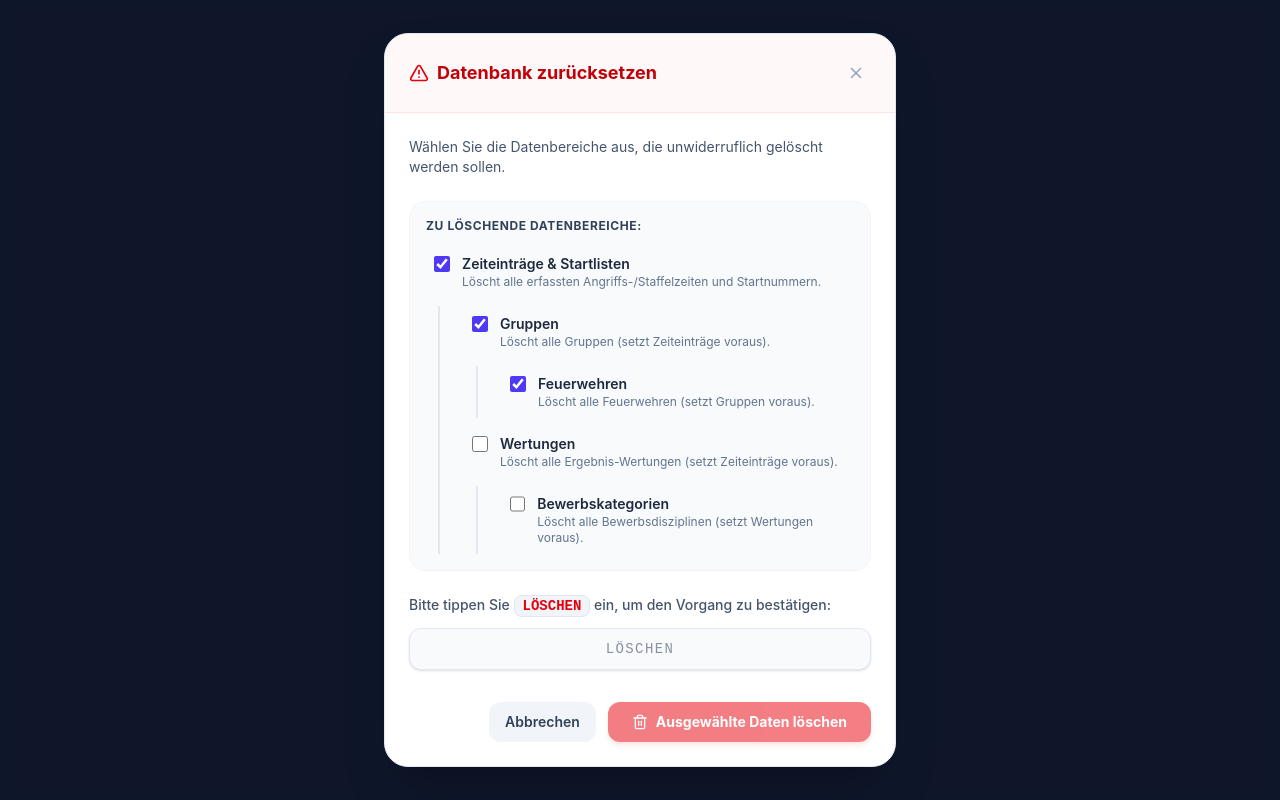
DatabaseResetModal › cascades unchecking parent (Zeiteinträge) to uncheck all dependent children
expect the checkbox named "scope-groups" is checked: met, box [472,316,488,332]
expect the checkbox named "scope-fire-brigades" is checked: met, box [510,376,526,392]
Note: Uncheck Zeiteinträge
Click the checkbox named "scope-category-entries" at (442, 264), box [434,256,450,272]
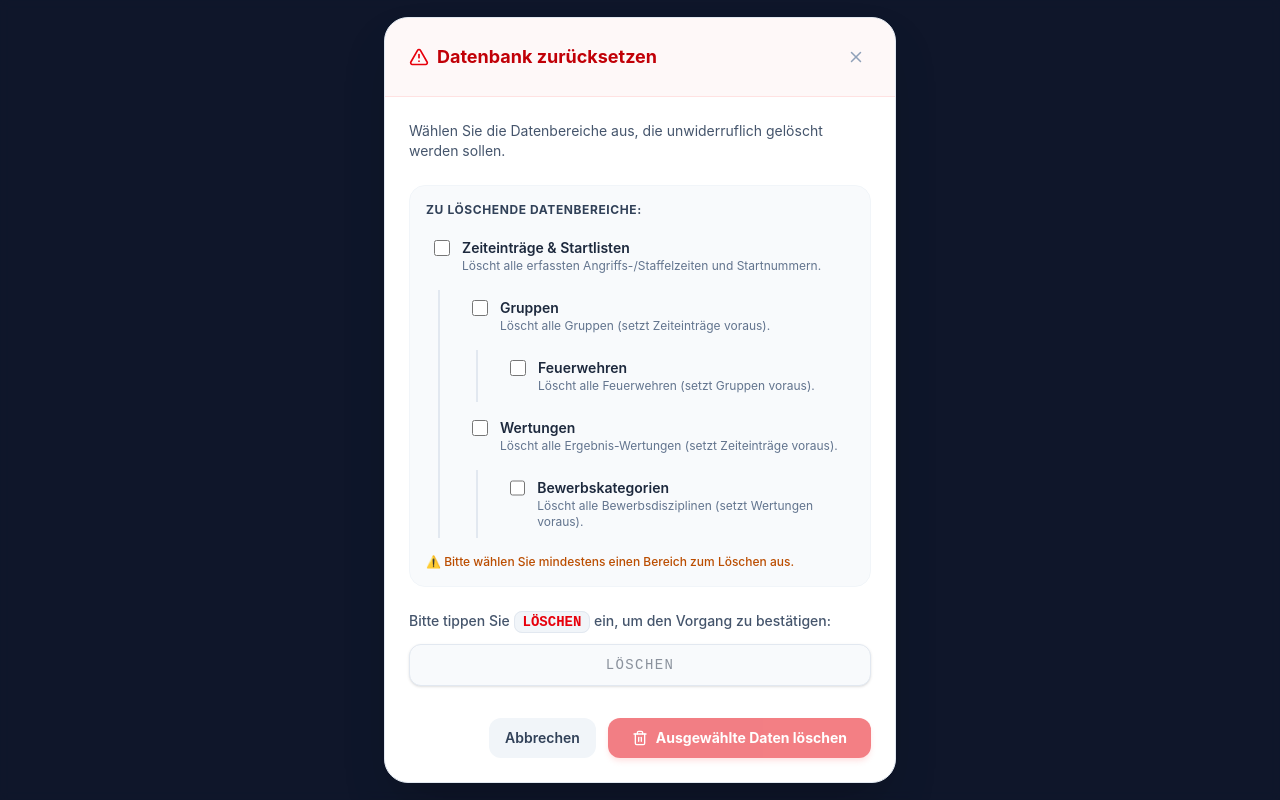
expect the checkbox named "scope-category-entries" is not checked: met, box [434,240,450,256]
expect the checkbox named "scope-groups" is not checked: met, box [472,300,488,316]
expect the checkbox named "scope-fire-brigades" is not checked: met, box [510,360,526,376]
